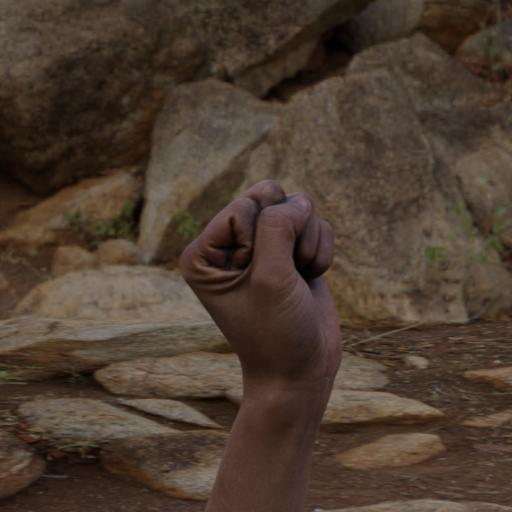S: (171, 175, 365, 496)
